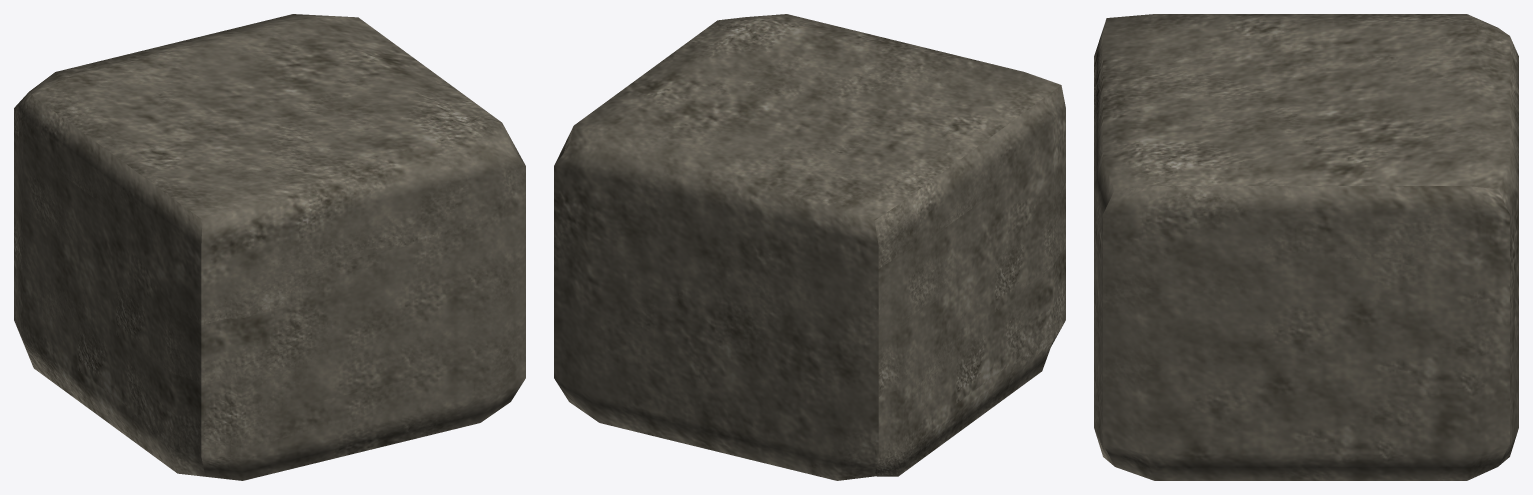
File: rubble.fbx
The picture shows the model from 3 angles, left to right: view 1: azimuth 30°, elevation 25°; view 2: azimuth 150°, elevation 25°; view 3: azimuth 270°, elevation 25°; orthographic projection. The views are drawn at different scales.
Visible parts, largest first — view 1: pCube1; view 2: pCube1; view 3: pCube1.
Part boxes in pixels (x1,y1,x2,y2): pCube1: [14, 14, 525, 480]; pCube1: [554, 14, 1065, 480]; pCube1: [1094, 14, 1518, 480].
Bounding box in the file's own units: 1 × 0.8 × 1.
